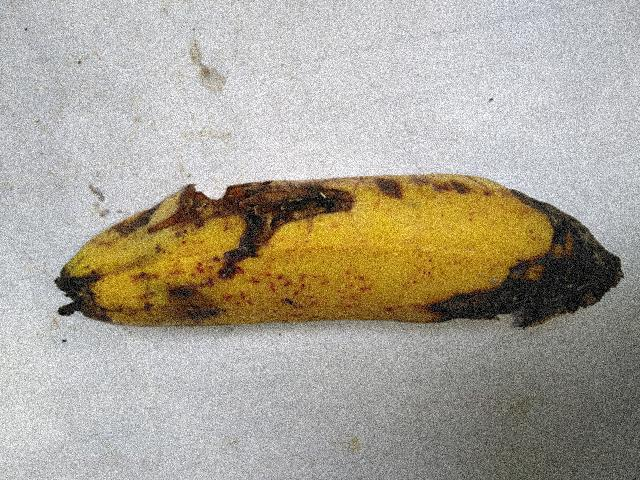rotten: (100, 141, 394, 320), (438, 158, 638, 381)
